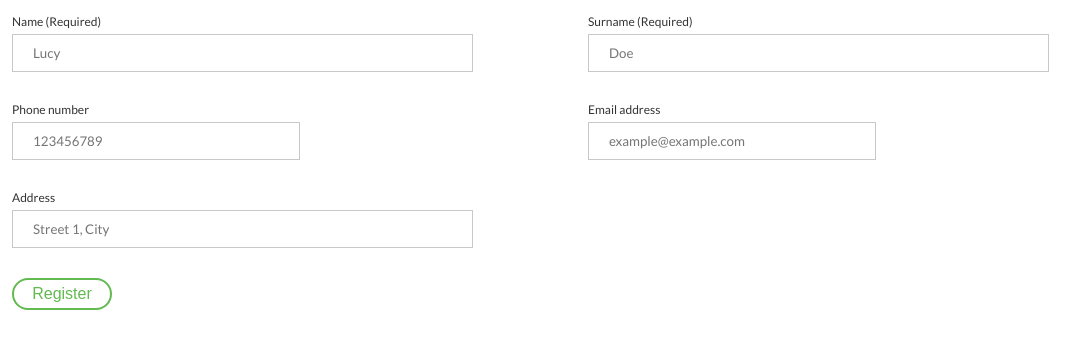
<NewOwnerForm /> › shows errors when register with empty inputs
Click the button "Register".
click(62, 294)  # box x1=12 y1=278 x2=112 y2=310
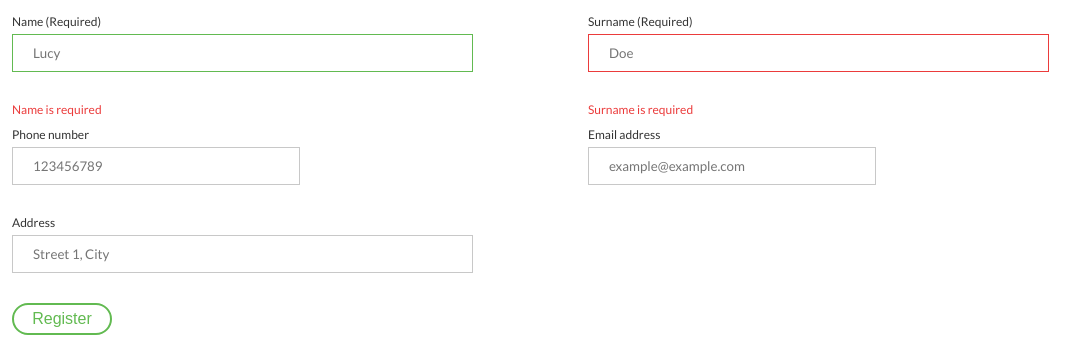
Now the text "Name is required" is shown, box x1=12 y1=102 x2=102 y2=117
Now the text "Surname is required" is shown, box x1=588 y1=102 x2=693 y2=117
